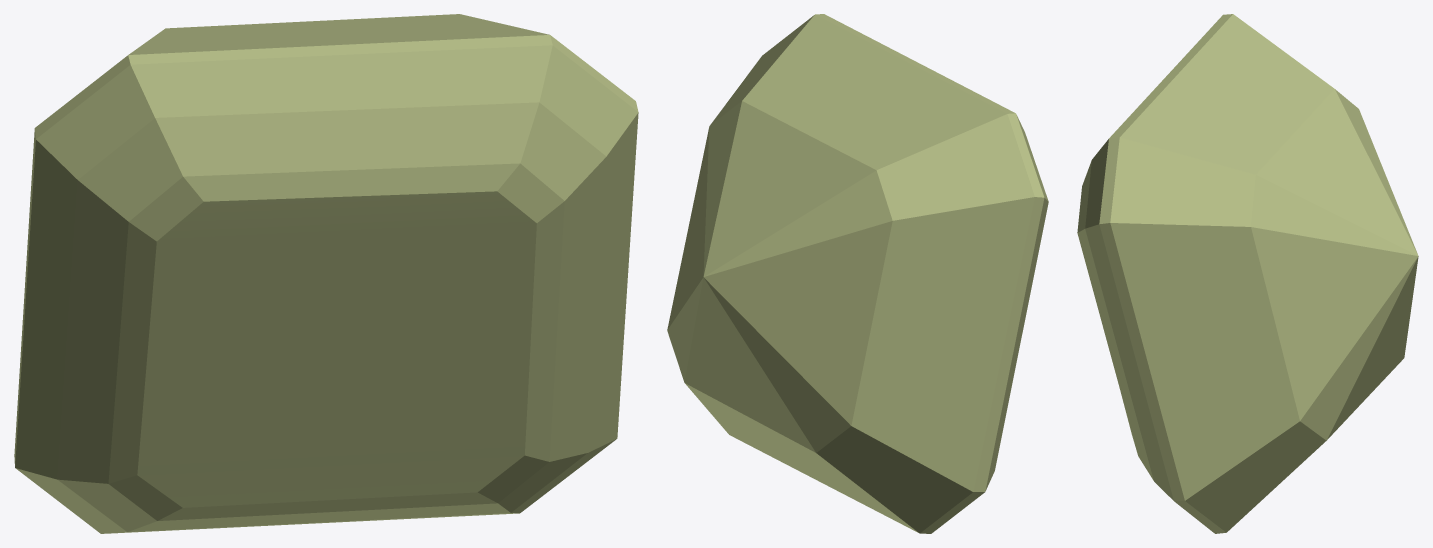
File: BL2_8shapes_Square_Classic_Stone.001 3.glb
3 views of the same model, side by side, from view 1: azimuth 30°, elevation 25°; view 2: azimuth 150°, elevation 25°; view 3: azimuth 270°, elevation 25° (orthographic). The views are drawn at different scales.
Visible parts, largest first — view 1: BL2_8shapes_Square_Classic_Stone.001; view 2: BL2_8shapes_Square_Classic_Stone.001; view 3: BL2_8shapes_Square_Classic_Stone.001.
Part boxes in pixels (x1,y1,x2,y2): BL2_8shapes_Square_Classic_Stone.001: (14,14,638,533); BL2_8shapes_Square_Classic_Stone.001: (667,14,1048,533); BL2_8shapes_Square_Classic_Stone.001: (1077,14,1418,533).
Size of the model in its own units: 0.3869 by 0.3829 by 0.3055.
